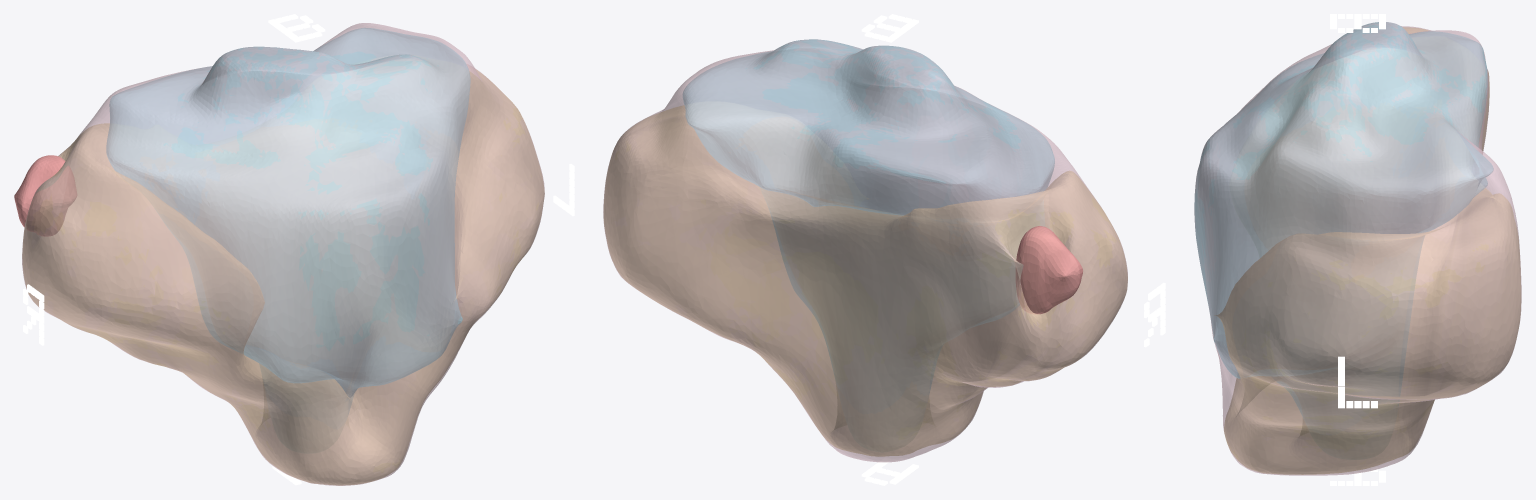
The picture shows the model from 3 angles, left to right: view 1: azimuth 30°, elevation 25°; view 2: azimuth 150°, elevation 25°; view 3: azimuth 270°, elevation 25°; orthographic projection. The views are drawn at different scales.
Visible parts, largest first — view 1: prostate_gland, transition_zone, peripheral_zone, lesion_01, pv_ar_marker_B, pv_ar_marker_R; view 2: prostate_gland, peripheral_zone, transition_zone, lesion_01, pv_ar_marker_B, pv_ar_marker_R, pv_ar_marker_A; view 3: prostate_gland, peripheral_zone, transition_zone, pv_ar_marker_B, pv_ar_marker_L, pv_ar_marker_A.
Part boxes in pixels (box(x1,y1,x2,y2)): prostate_gland: box(22, 23, 544, 485); transition_zone: box(106, 28, 470, 416); peripheral_zone: box(22, 70, 544, 485); lesion_01: box(14, 155, 76, 236); pv_ar_marker_B: box(268, 14, 325, 42); pv_ar_marker_R: box(23, 284, 44, 345); prostate_gland: box(603, 39, 1127, 462); peripheral_zone: box(604, 105, 1127, 456); transition_zone: box(683, 39, 1054, 392); lesion_01: box(1016, 226, 1082, 314); pv_ar_marker_B: box(861, 14, 918, 42); pv_ar_marker_R: box(1144, 282, 1165, 347); pv_ar_marker_A: box(861, 457, 918, 485); prostate_gland: box(1194, 22, 1521, 475); peripheral_zone: box(1215, 27, 1520, 474); transition_zone: box(1194, 22, 1493, 417); pv_ar_marker_B: box(1330, 14, 1385, 32); pv_ar_marker_L: box(1338, 356, 1377, 408); pv_ar_marker_A: box(1330, 467, 1385, 485).
Bounding box in the file's own units: 0.0718 × 0.0573 × 0.0374.
